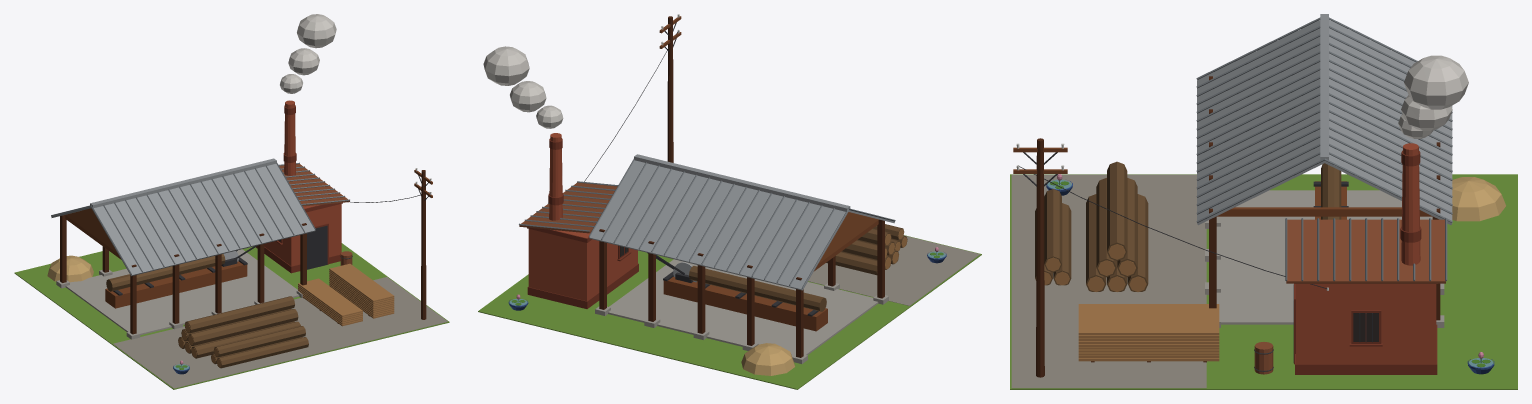
Rendered from factory_2.glb.
The picture shows the model from 3 angles, left to right: view 1: azimuth 30°, elevation 25°; view 2: azimuth 150°, elevation 25°; view 3: azimuth 270°, elevation 25°; orthographic projection. The views are drawn at different scales.
Visible parts, largest first — view 1: body; view 2: body; view 3: body, windows.
Part boxes in pixels (x1,y1,x2,y2): body: (14, 14, 449, 389); body: (478, 14, 981, 389); body: (1010, 14, 1517, 389); windows: (1353, 313, 1378, 341).
Size of the model in its own units: 16.92 by 11.46 by 15.9.
